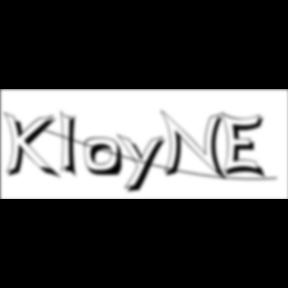E: (220, 110, 270, 182)
K: (3, 110, 62, 182)
N: (161, 109, 231, 183)
l: (60, 108, 84, 182)
o: (84, 137, 126, 179)
y: (117, 132, 171, 196)
